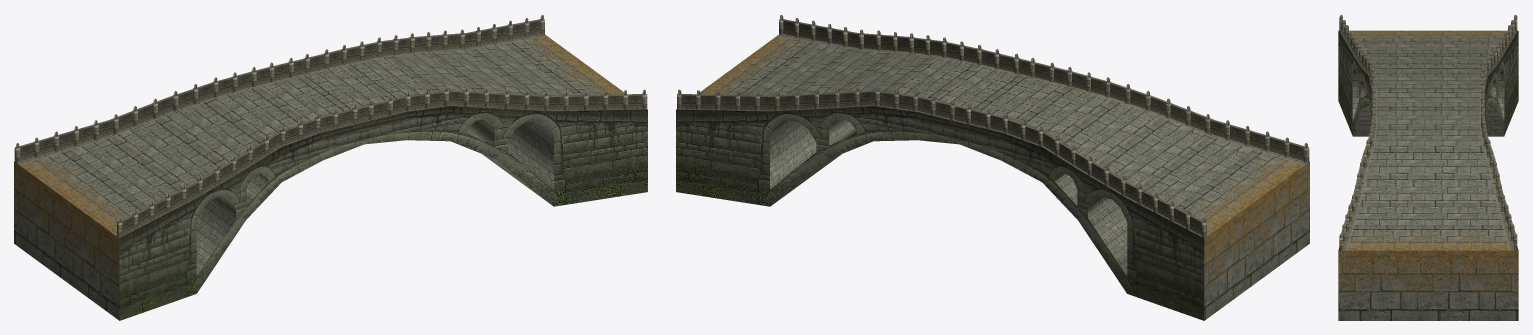
Rendered from cj_stonebridge01.glb.
3 renders of one model, left to right at view 1: azimuth 30°, elevation 25°; view 2: azimuth 150°, elevation 25°; view 3: azimuth 270°, elevation 25°, orthographic. The views are drawn at different scales.
Visible parts, largest first — view 1: cj_stoneb_floor, cj_stoneb_side, cj_stoneb_floor2, cj_stoneb_alpha, cj_stoneb_alpha2, cj_stoneb_side2; view 2: cj_stoneb_floor, cj_stoneb_side, cj_stoneb_floor2, cj_stoneb_alpha, cj_stoneb_alpha2, cj_stoneb_side2; view 3: cj_stoneb_floor, cj_stoneb_floor2, cj_stoneb_side, cj_stoneb_alpha, cj_stoneb_alpha2, cj_stoneb_side2.
Boxes of the visible parts, x1,y1,x2,y2 form: cj_stoneb_floor: (70, 43, 575, 276); cj_stoneb_side: (119, 106, 647, 320); cj_stoneb_floor2: (14, 36, 623, 320); cj_stoneb_alpha: (16, 15, 645, 235); cj_stoneb_alpha2: (14, 19, 647, 237); cj_stoneb_side2: (14, 34, 647, 238); cj_stoneb_floor: (748, 43, 1253, 276); cj_stoneb_side: (676, 106, 1204, 320); cj_stoneb_floor2: (700, 36, 1309, 320); cj_stoneb_alpha: (678, 15, 1307, 235); cj_stoneb_alpha2: (677, 19, 1309, 237); cj_stoneb_side2: (676, 34, 1309, 238); cj_stoneb_floor: (1352, 44, 1504, 225); cj_stoneb_floor2: (1338, 30, 1518, 320); cj_stoneb_side: (1338, 31, 1518, 135); cj_stoneb_alpha: (1339, 15, 1517, 250); cj_stoneb_alpha2: (1339, 18, 1517, 250); cj_stoneb_side2: (1338, 30, 1518, 250).
Size of the model in its own units: 40.76 by 10.25 by 14.12.
Materials: 6 (6 with a texture image).
